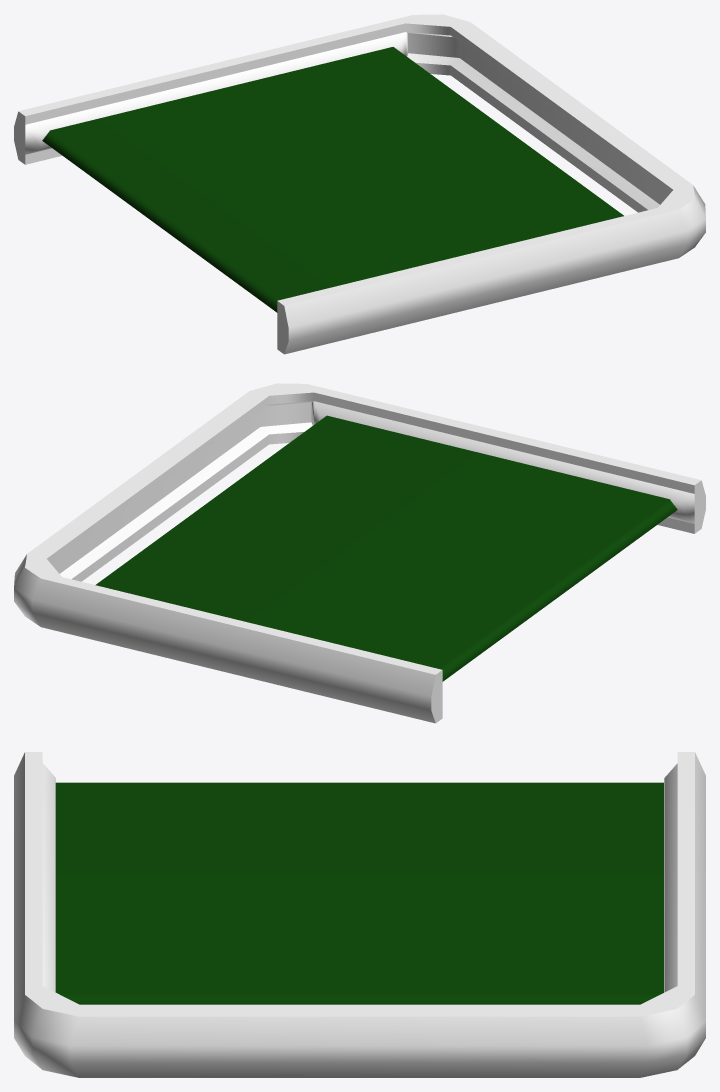
The model's file is fabricator_arm.fbx.
3 renders of one model, top to bottom at view 1: azimuth 30°, elevation 25°; view 2: azimuth 150°, elevation 25°; view 3: azimuth 270°, elevation 25°, orthographic. The views are drawn at different scales.
Parts seen in each view (by area): view 1: fabricator_beam, fabricator_arm; view 2: fabricator_beam, fabricator_arm; view 3: fabricator_beam, fabricator_arm.
Part boxes in pixels (x1=…): fabricator_beam: x1=42, y1=47, x2=623, y2=312; fabricator_arm: x1=14, y1=14, x2=705, y2=354; fabricator_beam: x1=95, y1=415, x2=677, y2=681; fabricator_arm: x1=14, y1=383, x2=705, y2=723; fabricator_beam: x1=55, y1=782, x2=663, y2=1004; fabricator_arm: x1=14, y1=752, x2=705, y2=1077.
Bounding box in the file's own units: 2.96 × 0.3127 × 3.2.
